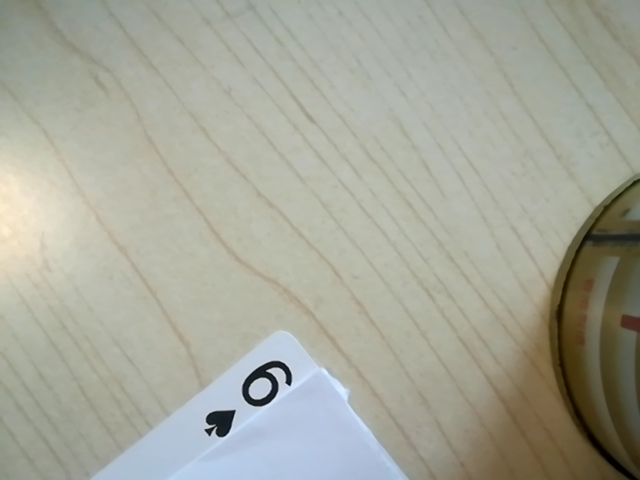ht 6: (190, 352, 311, 445)
